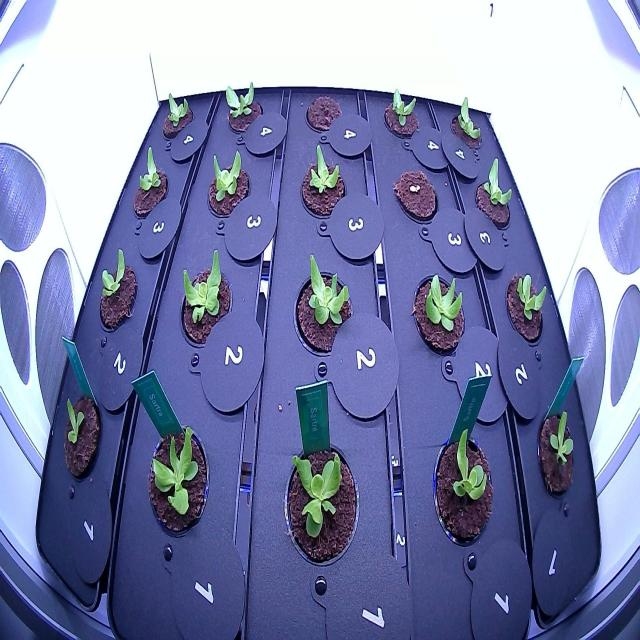germination: (388, 162, 444, 234)
pod: (302, 87, 346, 136)
young: (273, 427, 364, 577), (424, 420, 496, 555), (140, 414, 214, 541), (285, 246, 360, 366), (174, 242, 236, 354), (404, 268, 469, 359), (291, 142, 353, 233), (532, 407, 581, 505), (468, 153, 520, 240), (56, 388, 102, 486), (95, 244, 141, 342), (503, 266, 551, 348), (126, 140, 170, 225), (203, 150, 253, 222), (219, 76, 265, 138), (378, 81, 422, 143), (448, 92, 488, 154), (159, 88, 194, 148)
